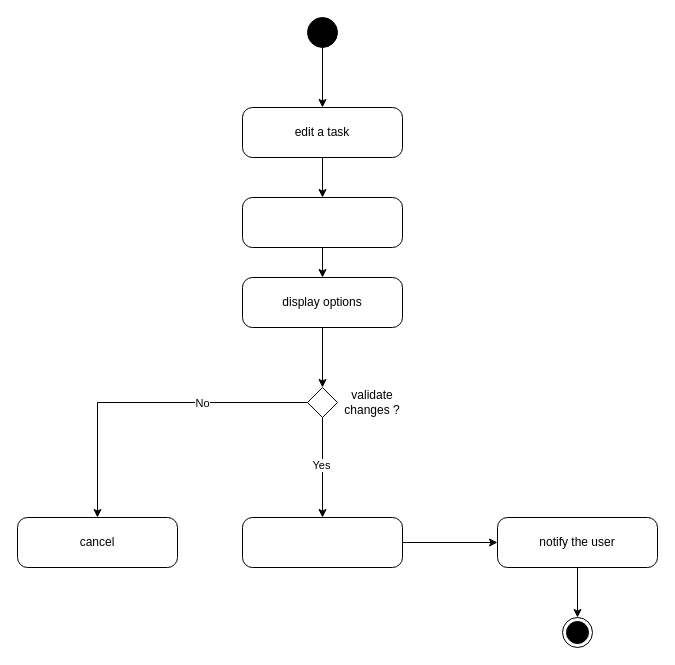
Some shapes in this 675 by 665 pixel diagram are drawn without their labels. The shapes that lost their labels are listed below. From the top down, each one's centre as x and y in pixels, then its label:
point 322,222: modify the task
point 322,542: save the modifications
